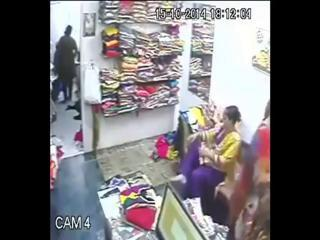Normal: (176, 106, 243, 224), (232, 100, 271, 240), (53, 25, 78, 104)
